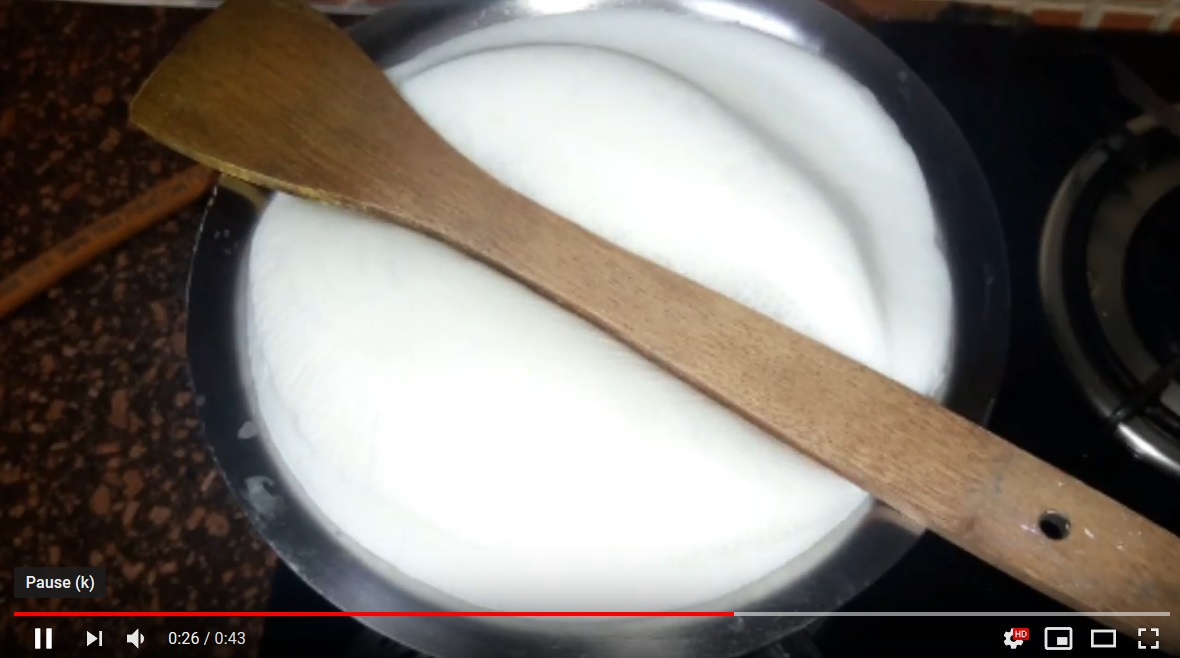Steaming: (192, 12, 942, 602)
